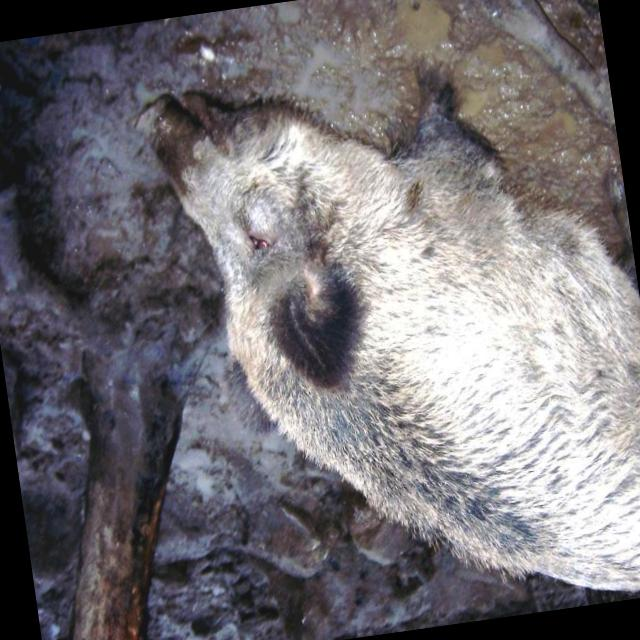pig: (150, 94, 640, 589)
